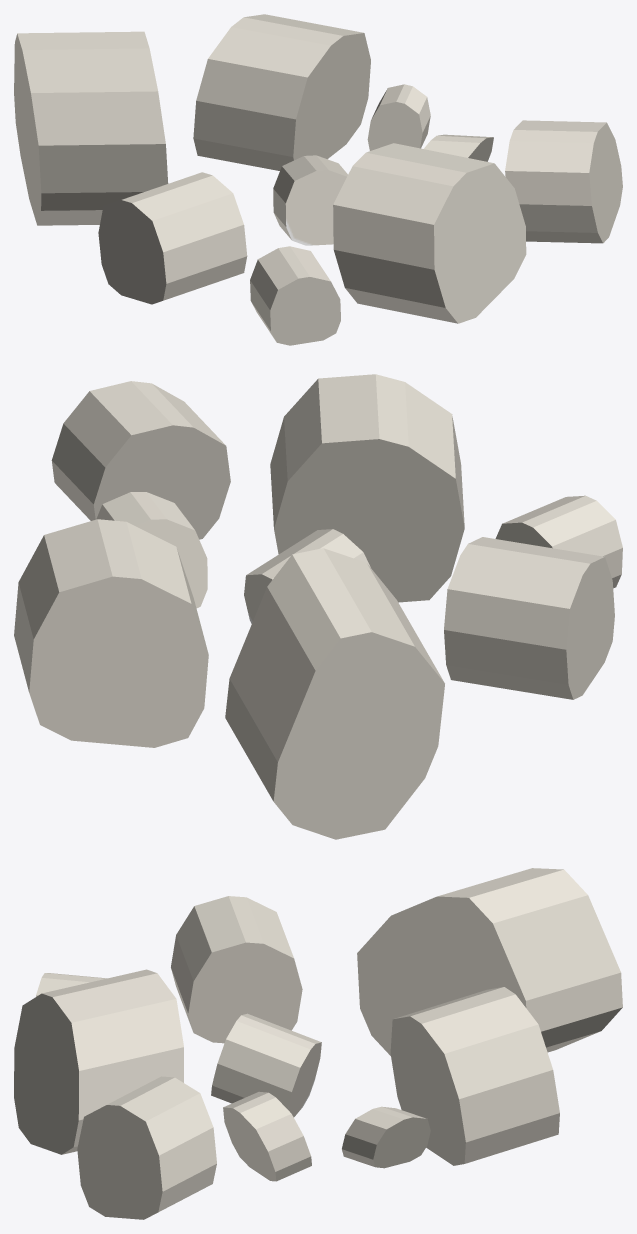
File: ñame picado.fbx
3 renders of one model, top to bottom at view 1: azimuth 30°, elevation 25°; view 2: azimuth 150°, elevation 25°; view 3: azimuth 270°, elevation 25°, orthographic. The views are drawn at different scales.
Visible parts, largest first — view 1: Cube.005; view 2: Cube.005; view 3: Cube.005.
Part boxes in pixels (bbox=[...]): Cube.005: bbox=[14, 14, 622, 345]; Cube.005: bbox=[14, 374, 622, 839]; Cube.005: bbox=[14, 868, 622, 1219].
Size of the model in its own units: 71.31 by 26.95 by 75.32.
Materials: 1 (1 with a texture image).
